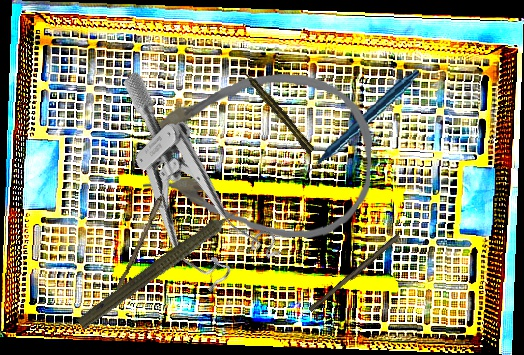Cannula: (140, 67, 376, 241)
Handpiece: (74, 196, 254, 337), (287, 67, 429, 176), (240, 68, 316, 155)
Scalpel Handle: (308, 232, 402, 315)
Speculum: (63, 70, 298, 308)
Surgical Spoon: (115, 163, 179, 292)
